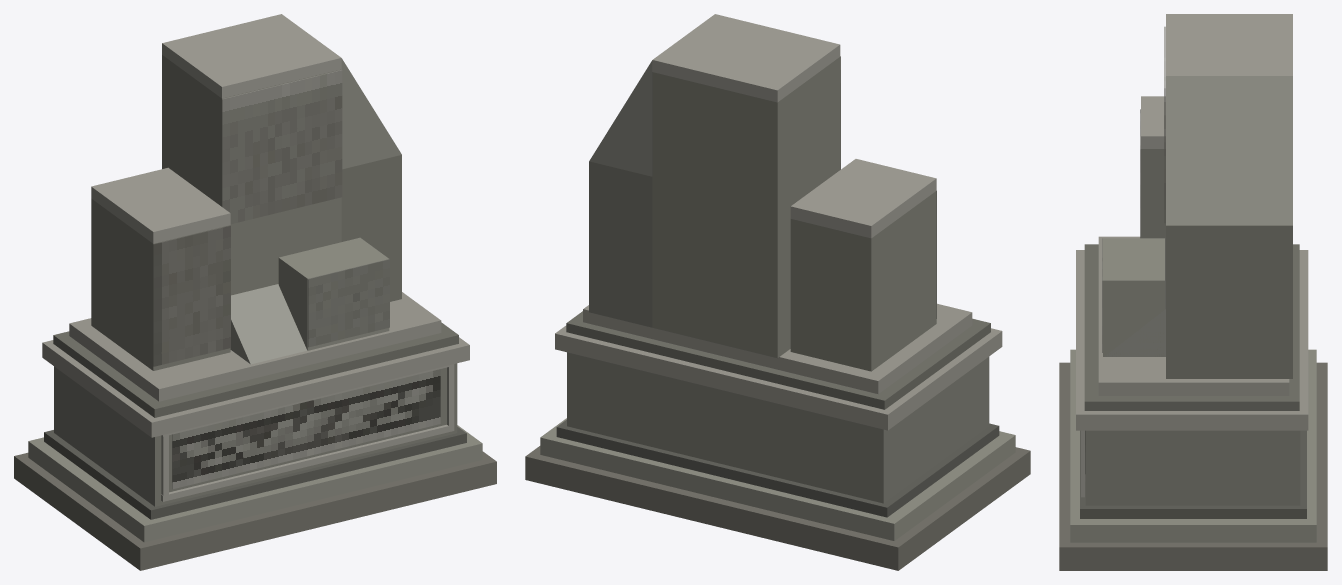
The model's file is CMU3DConcreteStatueCloud.glb.
3 views of the same model, side by side, from view 1: azimuth 30°, elevation 25°; view 2: azimuth 150°, elevation 25°; view 3: azimuth 270°, elevation 25° (orthographic). The views are drawn at different scales.
Parts seen in each view (by area): view 1: source tall concrete face, original inset sculptural plaque, wide lowest stone footing, tall central rectangular monolith, lower stepped plinth, solid inscription pedestal, source left concrete face, tall monolith cap, sculpture slab terrace, pedestal upper projecting cap, left short rectangular monolith, pedestal upper bevel course (+8 smaller); view 2: tall central rectangular monolith, solid inscription pedestal, left short rectangular monolith, wide lowest stone footing, lower stepped plinth, tall monolith cap, large diagonal mass lower body, pedestal upper projecting cap, sculpture slab terrace, left monolith cap, pedestal upper bevel course, plinth shadow course (+1 smaller); view 3: large diagonal mass lower body, large continuous right sloping concrete mass, solid inscription pedestal, wide lowest stone footing, lower stepped plinth, tall monolith cap, pedestal upper projecting cap, pedestal upper bevel course, short front raised cube, sculpture slab terrace, plinth shadow course, left short rectangular monolith (+3 smaller).
Boxes of the visible parts, x1,y1,x2,y2 form: source tall concrete face: [222, 69, 342, 224]; original inset sculptural plaque: [172, 369, 440, 489]; wide lowest stone footing: [14, 451, 496, 570]; tall central rectangular monolith: [162, 55, 341, 295]; lower stepped plinth: [28, 425, 482, 542]; solid inscription pedestal: [54, 363, 457, 506]; source left concrete face: [153, 225, 230, 366]; tall monolith cap: [162, 14, 341, 98]; sculpture slab terrace: [69, 292, 441, 401]; pedestal upper projecting cap: [42, 337, 469, 437]; left short rectangular monolith: [91, 198, 230, 370]; pedestal upper bevel course: [53, 322, 458, 417]; tall central rectangular monolith: [652, 57, 840, 358]; solid inscription pedestal: [567, 352, 989, 503]; left short rectangular monolith: [790, 191, 936, 371]; wide lowest stone footing: [525, 446, 1030, 570]; lower stepped plinth: [540, 418, 1015, 540]; tall monolith cap: [652, 14, 840, 102]; large diagonal mass lower body: [589, 161, 652, 327]; pedestal upper projecting cap: [555, 325, 1002, 430]; sculpture slab terrace: [583, 303, 972, 393]; left monolith cap: [790, 159, 936, 238]; pedestal upper bevel course: [566, 311, 990, 409]; plinth shadow course: [556, 420, 999, 517]; large diagonal mass lower body: [1166, 225, 1292, 378]; large continuous right sloping concrete mass: [1166, 76, 1292, 225]; solid inscription pedestal: [1085, 430, 1300, 505]; wide lowest stone footing: [1059, 362, 1327, 570]; lower stepped plinth: [1070, 349, 1316, 542]; tall monolith cap: [1166, 14, 1292, 75]; pedestal upper projecting cap: [1076, 250, 1308, 430]; pedestal upper bevel course: [1084, 244, 1299, 410]; short front raised cube: [1103, 238, 1164, 356]; sculpture slab terrace: [1098, 236, 1289, 395]; plinth shadow course: [1080, 430, 1306, 518]; left short rectangular monolith: [1141, 149, 1165, 238].
Size of the model in its own units: 1.58 by 1.76 by 0.97.
15 materials, 4 textured.
